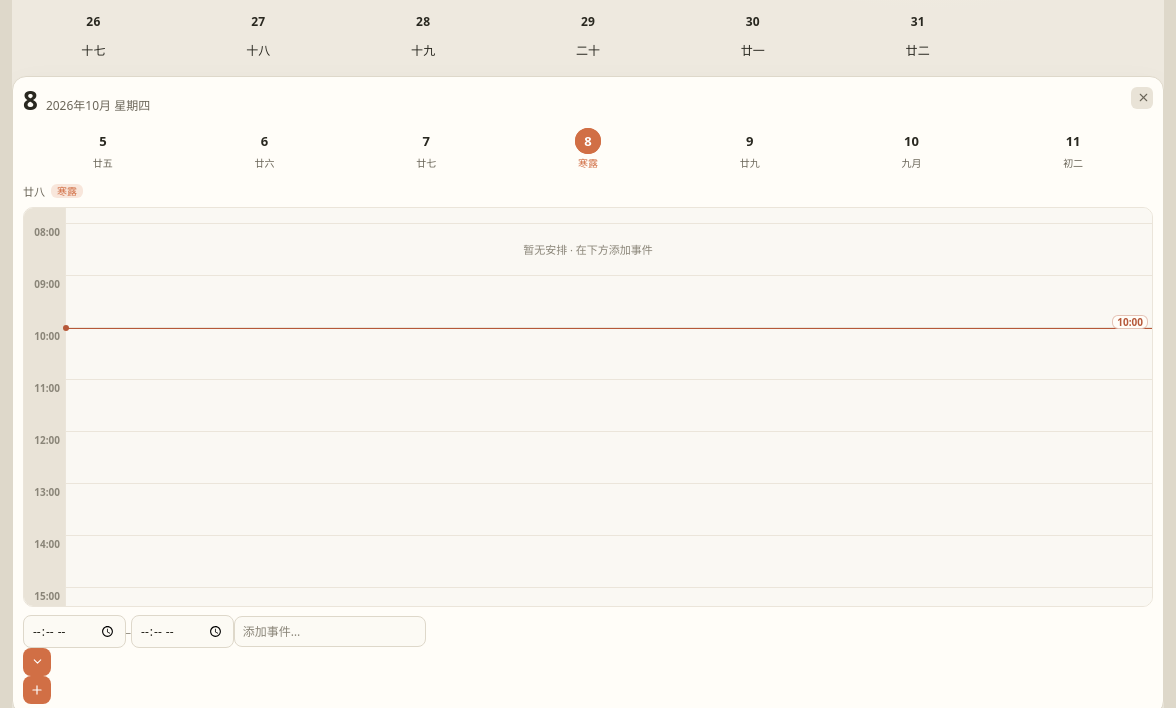
it: CalendarWidget 组件级回归 › 添加全天事件：进置顶区而非时间轴
The image size is (1176, 708).
(page scrolled)
In the field with placeholder "添加事件…": (330, 631) [234,616,426,647], type "全天事项"
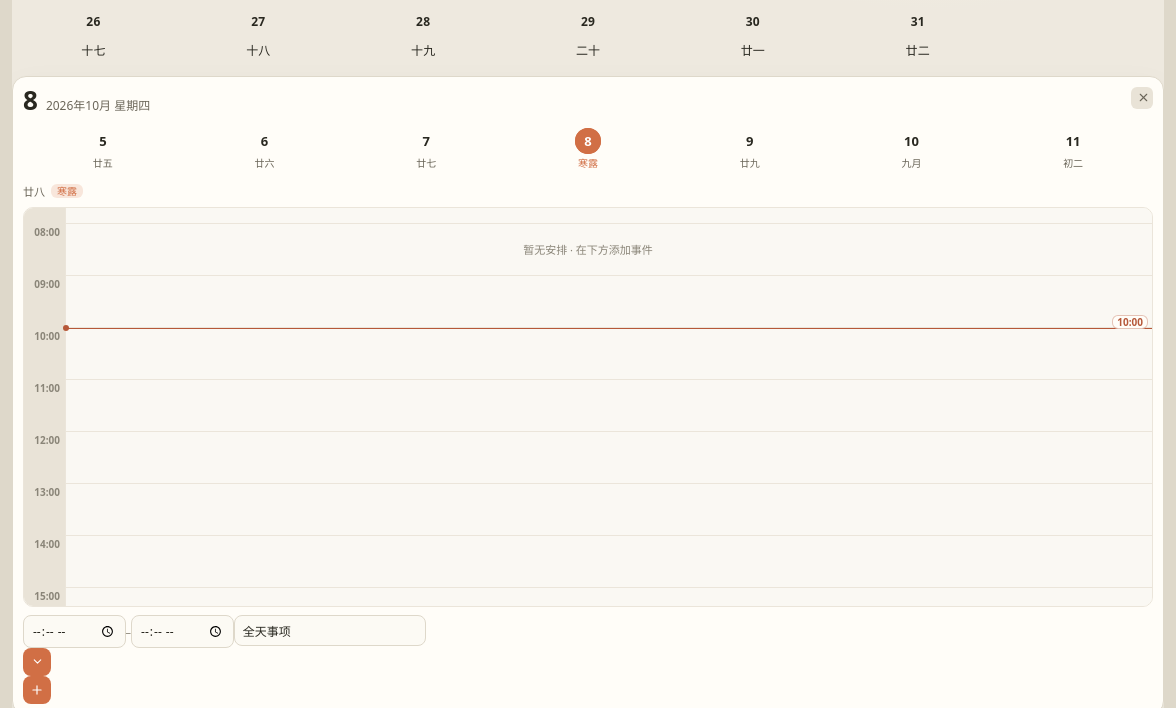
Click the button named "添加": (37, 690) [23,676,51,704]
(page scrolled)
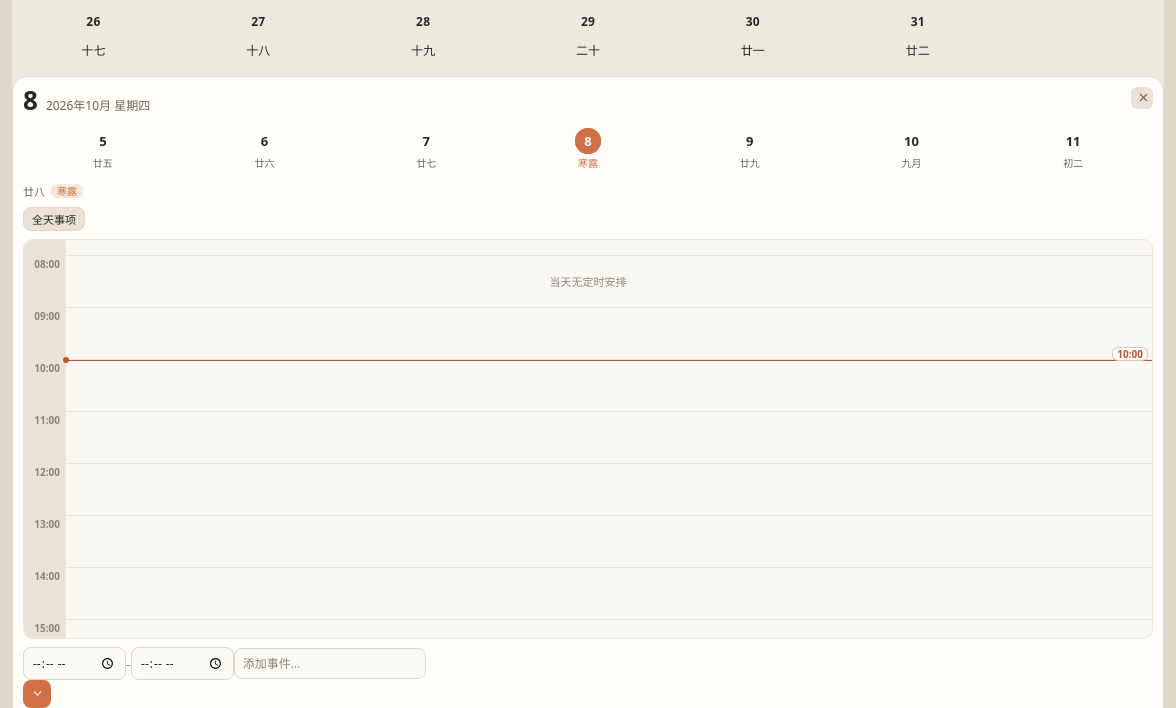
Result: the button with class "event" reads "全天事项" at [23,207,85,231]
